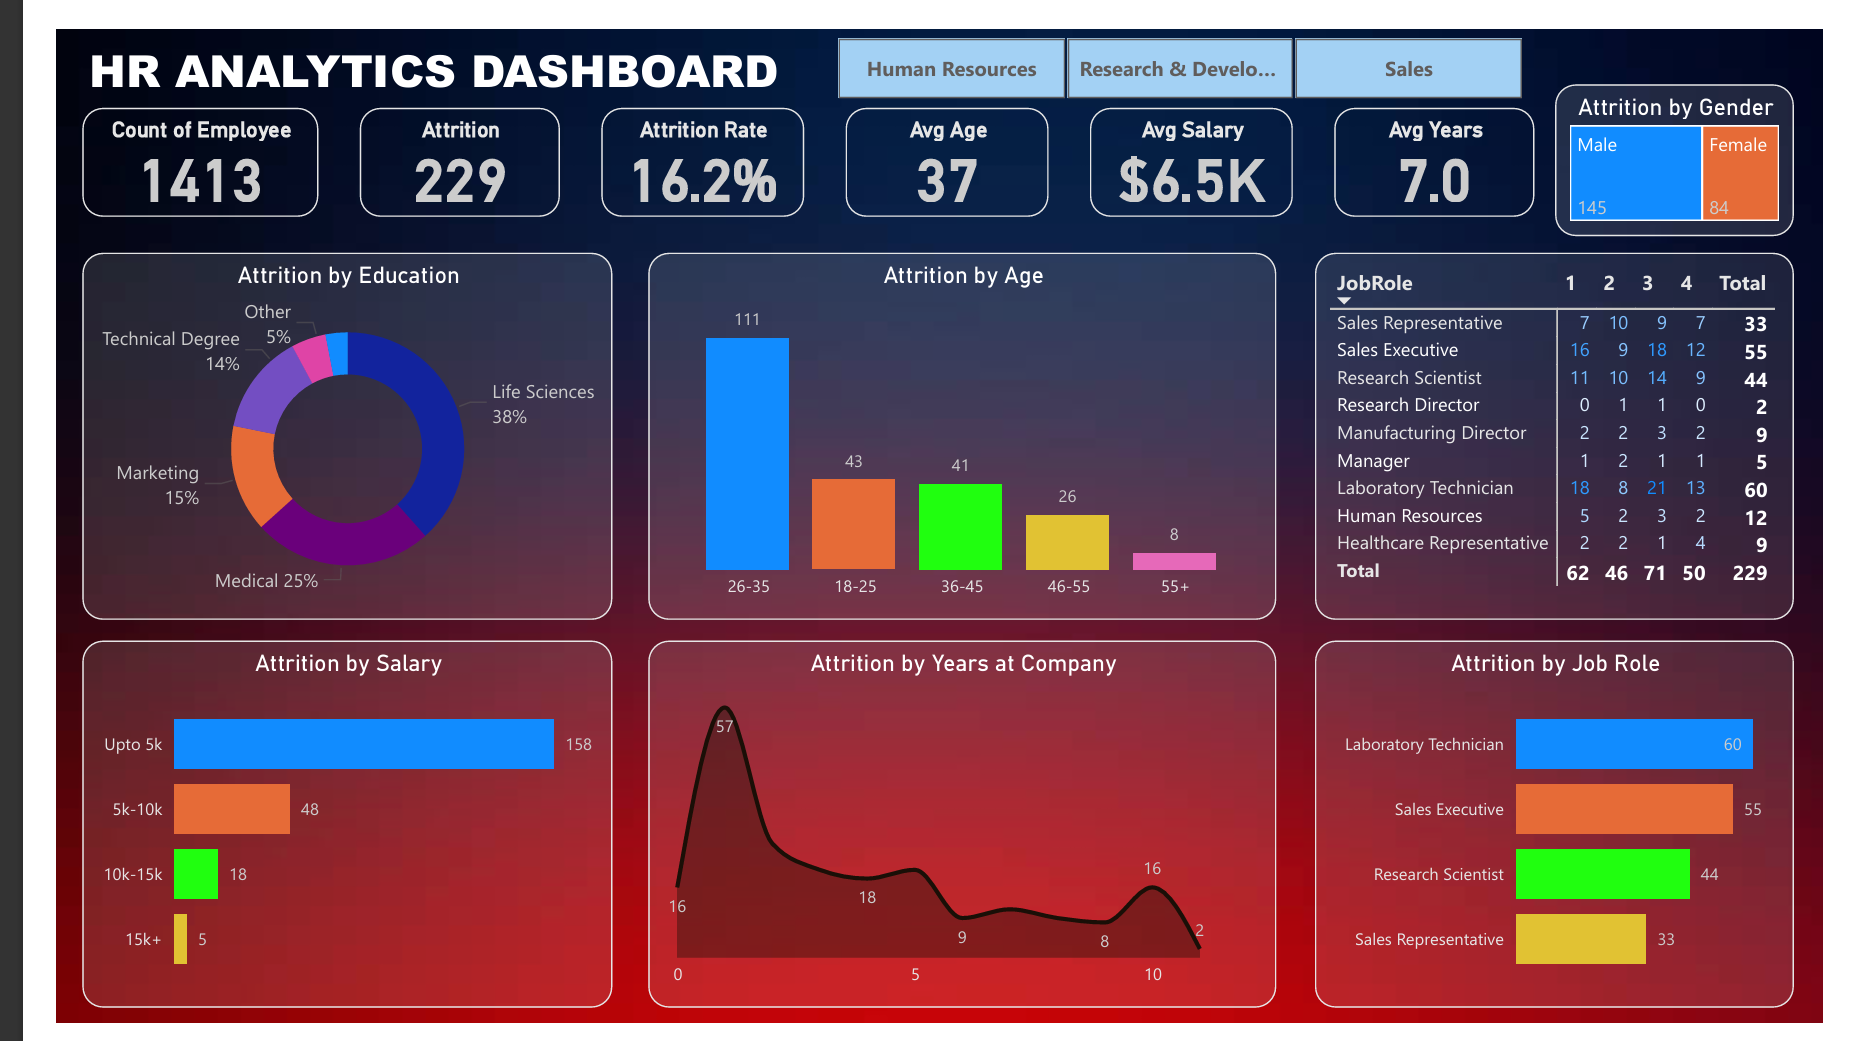

The page's visual inventory and layout, read from the dashboard file:
{"tool":"powerbi","page":{"name":"Page 1","canvas":[1280,720],"ordinal":0},"visuals":[{"type":"card","title":"Count of Employee","fields":{"Values":["CountNonNull(HR_Analytics.EmpID)"]},"box":[19,56.9,170.7,79.3],"z":0},{"type":"card","title":"Attrition","fields":{"Values":["Sum(HR_Analytics.Attritioncount)"]},"box":[220,56.9,144.8,79.3],"z":1000},{"type":"card","title":"Attrition Rate","fields":{"Values":["HR_Analytics.Attrition_Rate"]},"box":[395.2,56.9,146.6,79.3],"z":2000},{"type":"card","title":"Avg Age","fields":{"Values":["Avg(HR_Analytics.Age)"]},"box":[572.1,56.9,146.6,79.3],"z":3000},{"type":"card","title":"Avg Salary","fields":{"Values":["Avg(HR_Analytics.MonthlyIncome)"]},"box":[749,56.9,146.6,79.3],"z":4000},{"type":"card","title":"Avg Years","fields":{"Values":["Avg(HR_Analytics.YearsAtCompany)"]},"box":[925.9,56.9,144.8,79.3],"z":5000},{"type":"donutChart","title":" Attrition by Education","fields":{"Category":["HR_Analytics.EducationField"],"Y":["Sum(HR_Analytics.Attritioncount)"]},"box":[19,162.1,384.5,265.5],"z":6000},{"type":"clusteredColumnChart","title":" Attrition by Age","fields":{"Category":["HR_Analytics.AgeGroup"],"Y":["Sum(HR_Analytics.Attritioncount)"]},"box":[429.3,162.1,455.2,265.5],"z":7000},{"type":"pivotTable","fields":{"Values":["Sum(HR_Analytics.Attritioncount)"],"Rows":["HR_Analytics.JobRole"],"Columns":["HR_Analytics.JobSatisfaction"]},"box":[912.1,162.1,346.6,265.5],"z":8000},{"type":"barChart","title":" Attrition by Salary","fields":{"Category":["HR_Analytics.SalarySlab"],"Y":["Sum(HR_Analytics.Attritioncount)"]},"box":[19,443.1,384.5,265.5],"z":9000},{"type":"barChart","title":" Attrition by Job Role","fields":{"Category":["HR_Analytics.JobRole"],"Y":["Sum(HR_Analytics.Attritioncount)"]},"box":[912.1,443.1,346.6,265.5],"z":10000},{"type":"areaChart","title":" Attrition by Years at Company","fields":{"Category":["HR_Analytics.YearsAtCompany"],"Y":["Sum(HR_Analytics.Attritioncount)"]},"box":[429.3,443.1,455.2,265.5],"z":11000},{"type":"treemap","title":" Attrition by Gender","fields":{"Group":["HR_Analytics.Gender"],"Values":["Sum(HR_Analytics.Attritioncount)"]},"box":[1086.2,39.7,172.4,110.3],"z":12000},{"type":"slicer","fields":{"Values":["HR_Analytics.Department"]},"box":[541.4,0,544.8,56.9],"z":12001},{"type":"textbox","box":[19,1.7,522.4,55.2],"z":12002}]}

Visuals, with their boxes in screenshot pixels (x1, y1, x2, y2), scaled from the page's 1280x720 canvas onto the 1849x1041 screenshot:
"Count of Employee" card: x1=27 y1=82 x2=274 y2=197
"Attrition" card: x1=318 y1=82 x2=527 y2=197
"Attrition Rate" card: x1=571 y1=82 x2=783 y2=197
"Avg Age" card: x1=826 y1=82 x2=1038 y2=197
"Avg Salary" card: x1=1082 y1=82 x2=1294 y2=197
"Avg Years" card: x1=1337 y1=82 x2=1547 y2=197
" Attrition by Education" donutChart: x1=27 y1=234 x2=583 y2=618
" Attrition by Age" clusteredColumnChart: x1=620 y1=234 x2=1278 y2=618
pivotTable - Sum(HR_Analytics.Attritioncount) x HR_Analytics.JobRole: x1=1318 y1=234 x2=1818 y2=618
" Attrition by Salary" barChart: x1=27 y1=641 x2=583 y2=1025
" Attrition by Job Role" barChart: x1=1318 y1=641 x2=1818 y2=1025
" Attrition by Years at Company" areaChart: x1=620 y1=641 x2=1278 y2=1025
" Attrition by Gender" treemap: x1=1569 y1=57 x2=1818 y2=217
slicer - HR_Analytics.Department: x1=782 y1=0 x2=1569 y2=82
textbox: x1=27 y1=2 x2=782 y2=82
